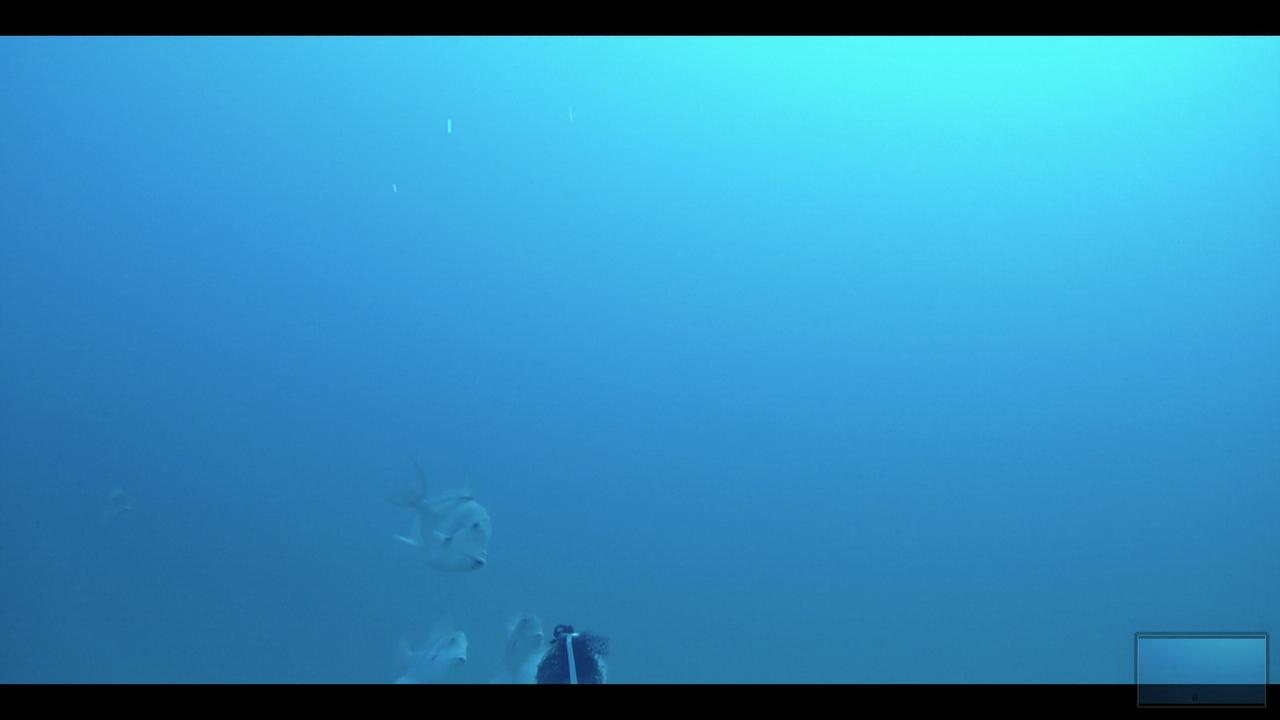balistes: (376, 448, 494, 577), (382, 611, 472, 681), (500, 608, 546, 681)
